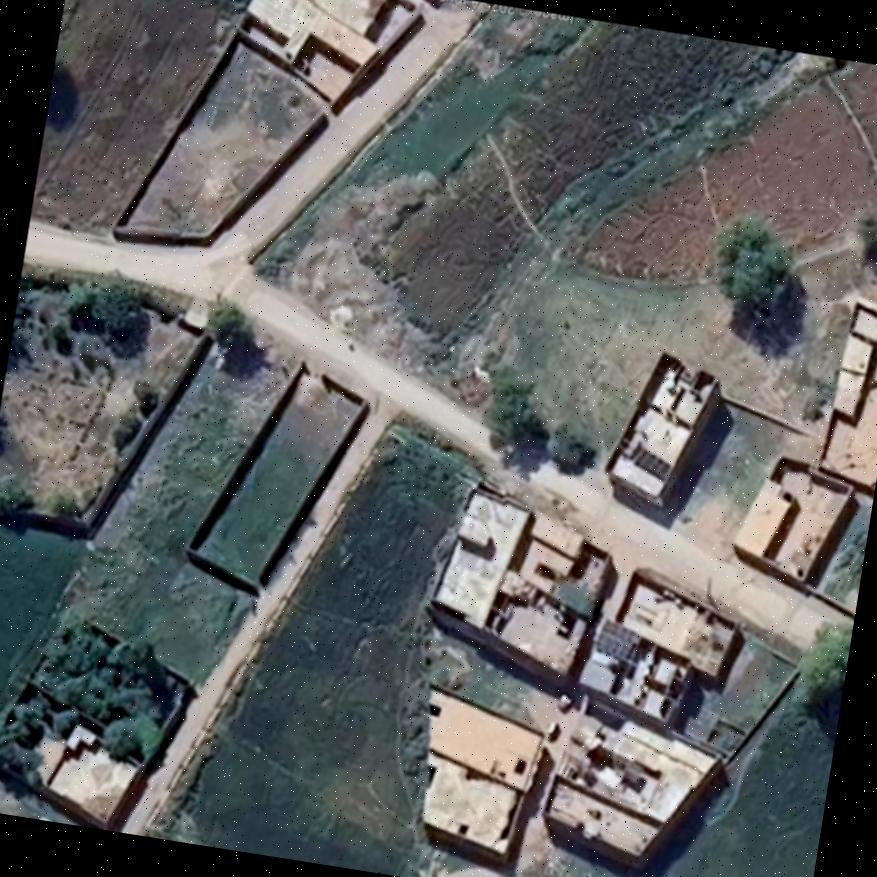Solarpanel: (597, 617, 633, 657)
